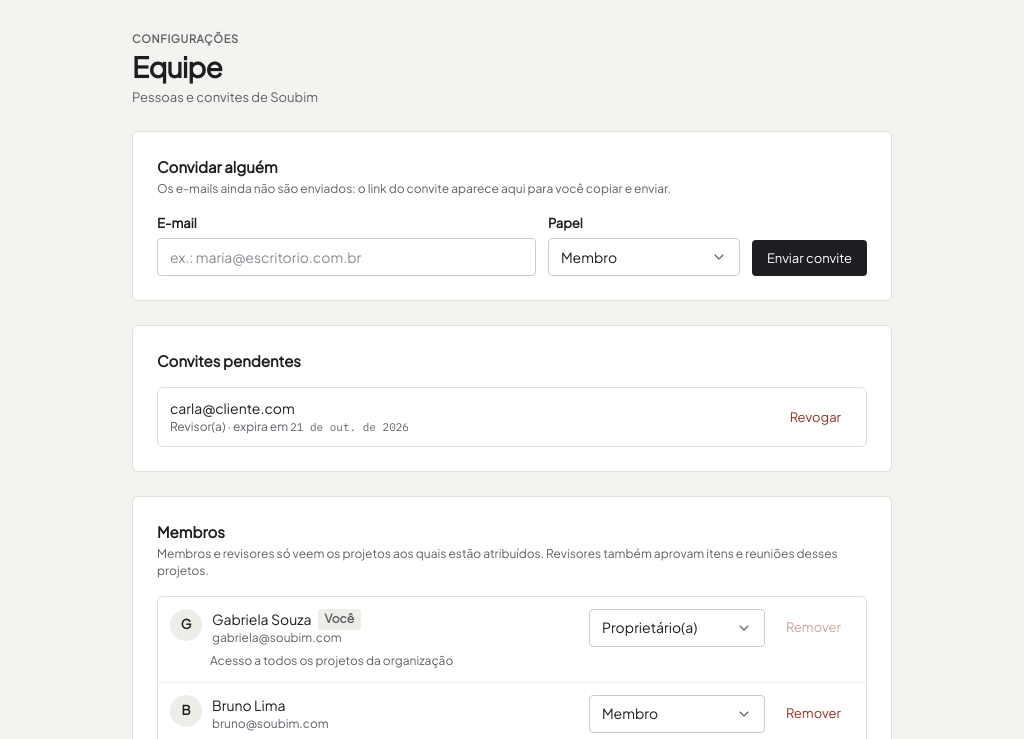
Test: Phase 4c — Equipe e Plataforma (pt-BR) › Equipe › removes a person only after the dialog names the consequence
The width and height of the screenshot is (1024, 739).
Expected: the text "Bruno Lima" is shown, [212,695,285,716]
Click the button "Remover" in the row of "bruno@soubim.com" at {"x": 813, "y": 714}, box [773,698,854,730]
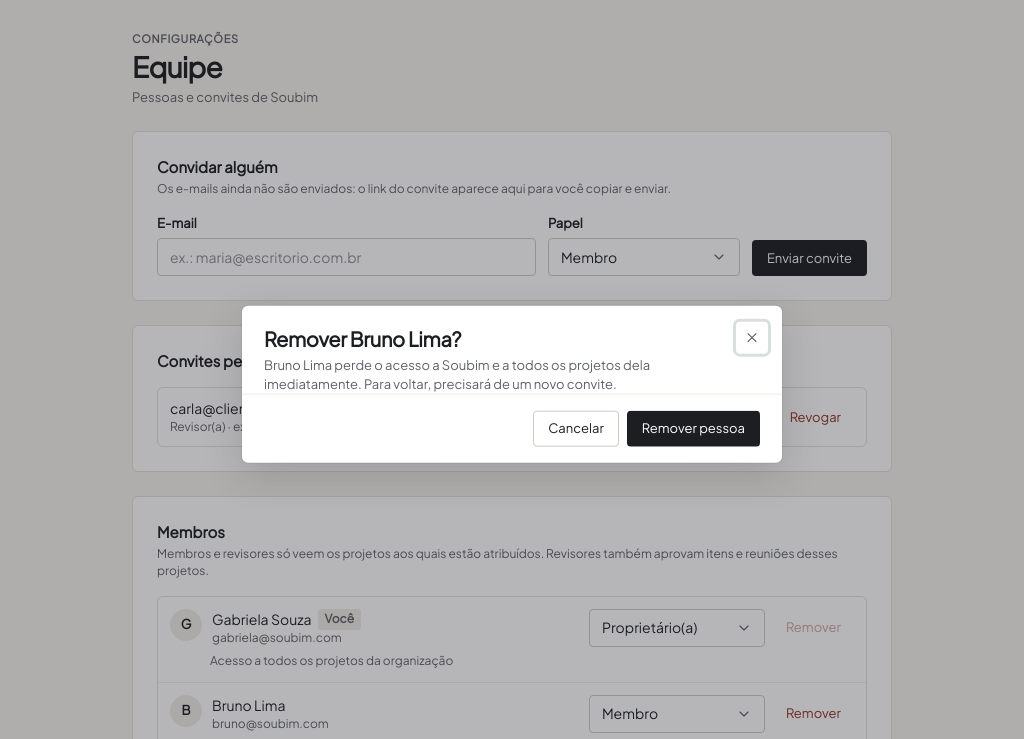
Now the text "perde o acesso a Soubim" is shown, box [264,357,650,392]
Click the button "Remover pessoa" at {"x": 693, "y": 428}, box [627,410,760,446]
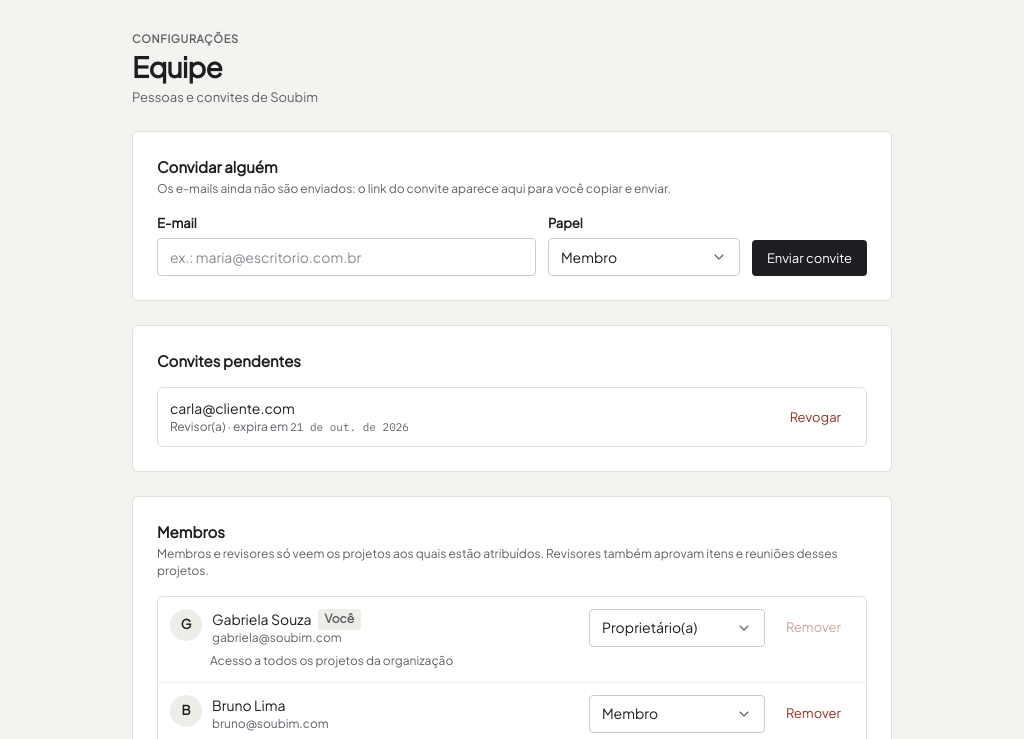
Now the dialog is gone
